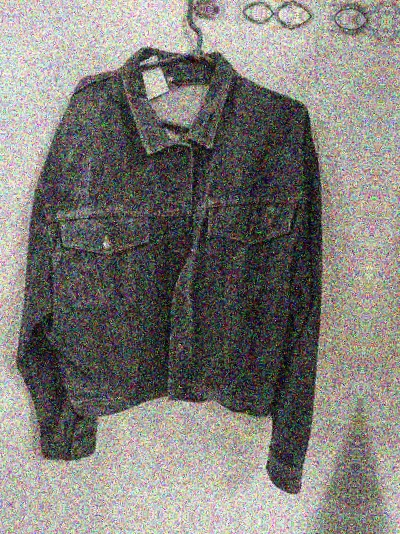Blazer: (0, 49, 362, 492), (375, 75, 400, 518)
